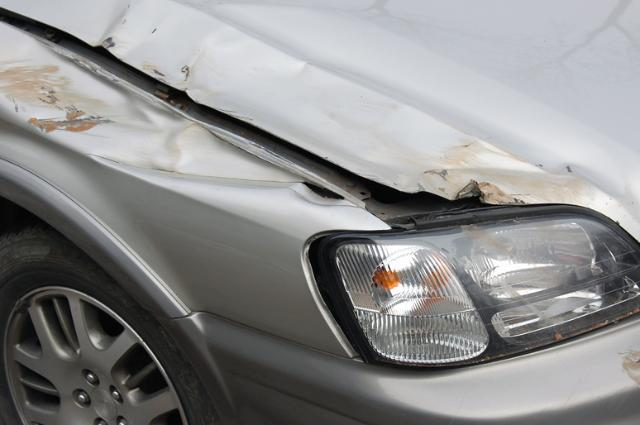Bonnet: (0, 0, 640, 251)
Fender: (0, 27, 394, 241)
